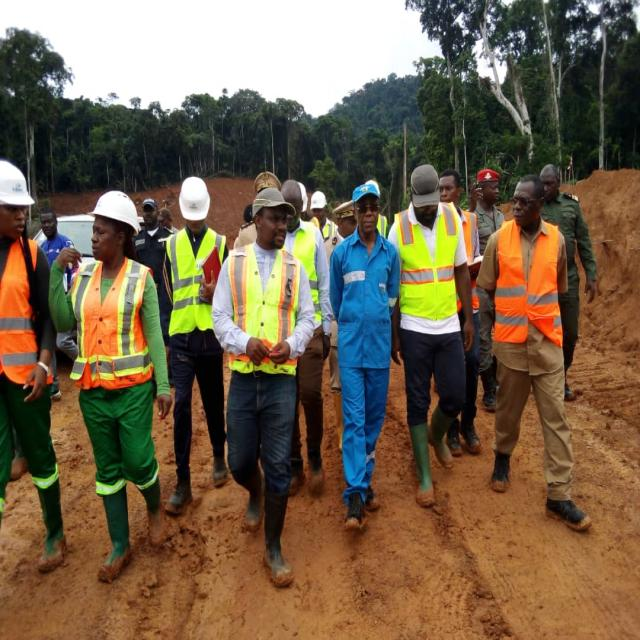helmet: (88, 191, 142, 235), (0, 161, 36, 210), (178, 176, 210, 221)
vest: (74, 260, 154, 390), (228, 246, 300, 372), (492, 222, 560, 342), (0, 238, 51, 386), (397, 202, 458, 319), (165, 229, 226, 336)
